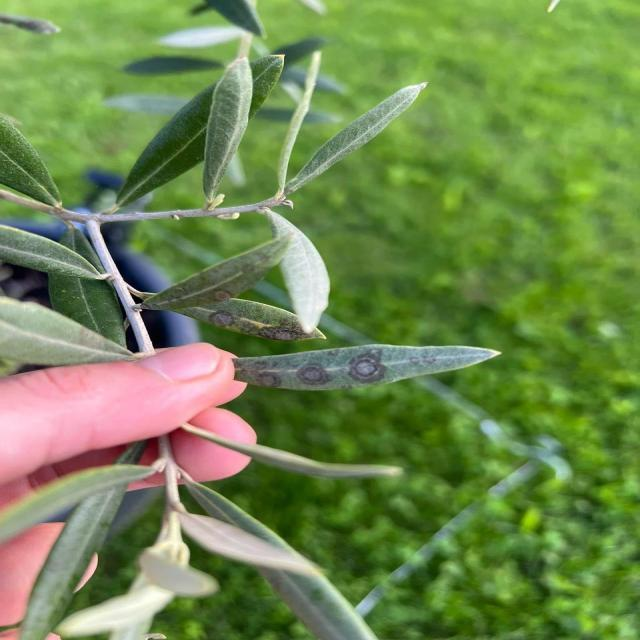OlivePeacockSpot: (142, 229, 293, 313), (235, 344, 500, 390), (180, 300, 326, 341)
